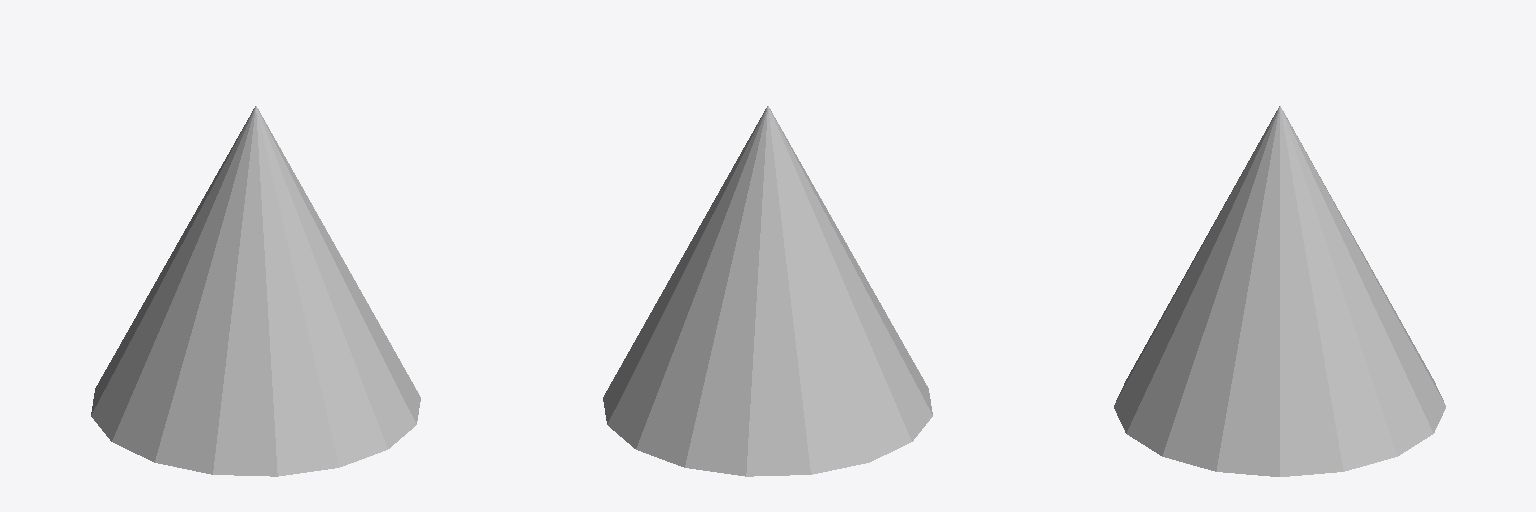
File: treetop.obj
3 renders of one model, left to right at view 1: azimuth 30°, elevation 25°; view 2: azimuth 150°, elevation 25°; view 3: azimuth 270°, elevation 25°, orthographic.
Parts seen in each view (by area): view 1: Cone.001; view 2: Cone.001; view 3: Cone.001.
Boxes of the visible parts, x1,y1,x2,y2 form: Cone.001: [91, 106, 420, 476]; Cone.001: [603, 106, 932, 476]; Cone.001: [1114, 106, 1445, 476].
Bounding box in the file's own units: 2 × 2 × 2.